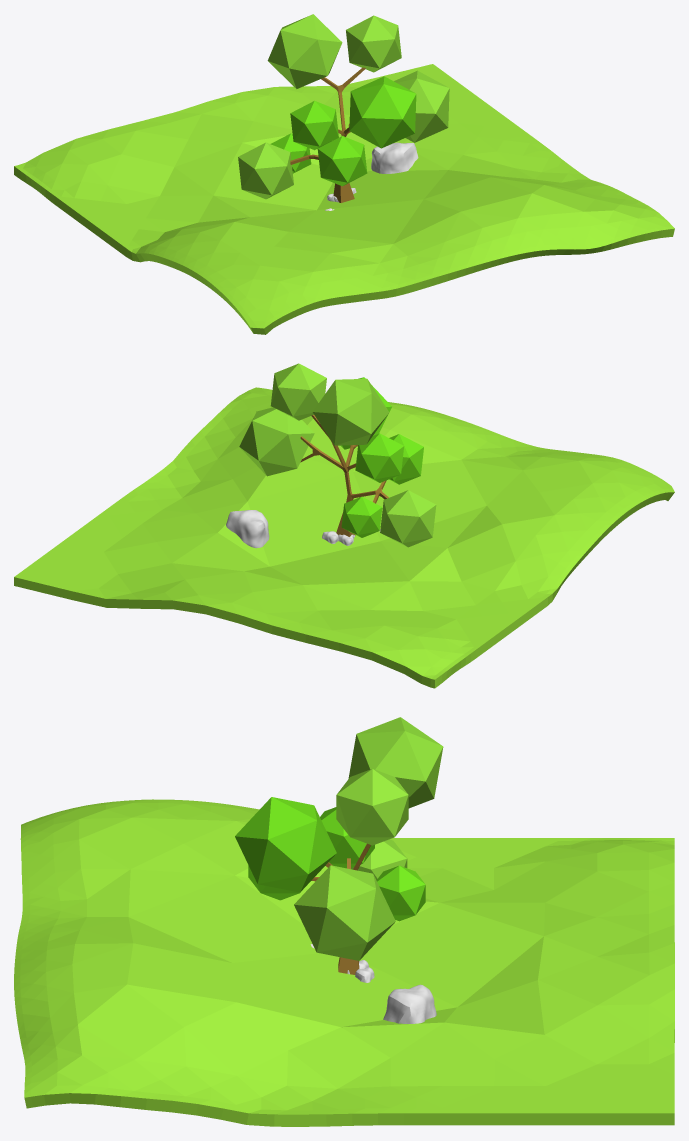
Rendered from PolyTree.glb.
The picture shows the model from 3 angles, top to bottom: view 1: azimuth 30°, elevation 25°; view 2: azimuth 150°, elevation 25°; view 3: azimuth 270°, elevation 25°; orthographic projection. The views are drawn at different scales.
Parts seen in each view (by area): view 1: Plane, Icosphere.008, Icosphere.006, Icosphere.007, Icosphere.005, Icosphere.002, Icosphere.003, Icosphere.001, rock.007, Cube, Icosphere.004; view 2: Plane, Icosphere.006, Icosphere.002, Icosphere.005, Icosphere.007, Icosphere.001, Icosphere.004, rock.007, Cube, Icosphere.003; view 3: Plane, Icosphere.008, Icosphere.002, Icosphere.006, Icosphere.007, Icosphere.004, rock.007, Icosphere.001, Icosphere.005.
Part boxes in pixels (bbox=[...]): Plane: bbox=[14, 64, 674, 334]; Icosphere.008: bbox=[349, 76, 416, 148]; Icosphere.006: bbox=[267, 14, 342, 88]; Icosphere.007: bbox=[346, 15, 401, 72]; Icosphere.005: bbox=[238, 142, 293, 199]; Icosphere.002: bbox=[394, 70, 449, 142]; Icosphere.003: bbox=[317, 136, 367, 186]; Icosphere.001: bbox=[290, 100, 338, 150]; rock.007: bbox=[371, 142, 418, 173]; Cube: bbox=[290, 67, 365, 202]; Icosphere.004: bbox=[271, 133, 311, 173]; Plane: bbox=[14, 387, 674, 688]; Icosphere.006: bbox=[312, 378, 389, 445]; Icosphere.002: bbox=[239, 407, 314, 476]; Icosphere.005: bbox=[380, 490, 436, 547]; Icosphere.007: bbox=[270, 363, 326, 420]; Icosphere.001: bbox=[355, 433, 404, 482]; Icosphere.004: bbox=[341, 496, 382, 537]; rock.007: bbox=[226, 510, 269, 548]; Cube: bbox=[300, 415, 388, 536]; Icosphere.003: bbox=[389, 434, 423, 484]; Plane: bbox=[14, 799, 674, 1126]; Icosphere.008: bbox=[235, 797, 336, 892]; Icosphere.002: bbox=[294, 865, 395, 960]; Icosphere.006: bbox=[348, 717, 443, 808]; Icosphere.007: bbox=[336, 769, 408, 845]; Icosphere.004: bbox=[376, 865, 425, 921]; rock.007: bbox=[383, 984, 436, 1023]; Icosphere.001: bbox=[320, 807, 374, 868]; Icosphere.005: bbox=[351, 839, 407, 879].
Size of the model in its own units: 169 by 74.36 by 171.
